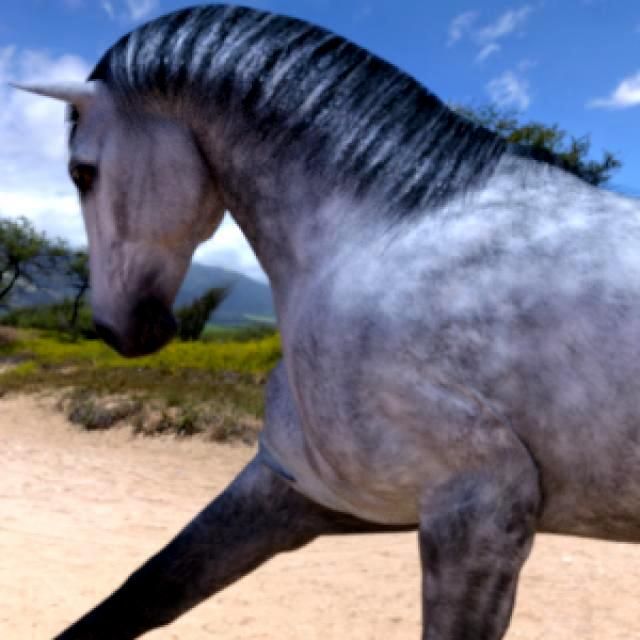horse: (26, 6, 640, 640)
